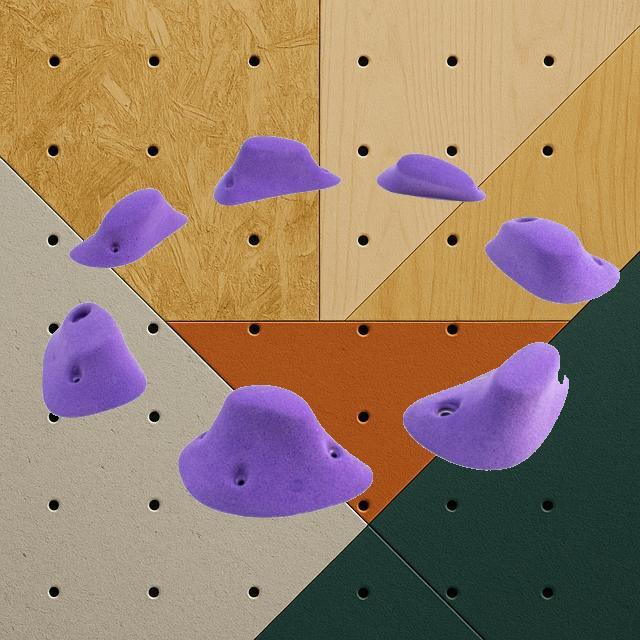Pinch: (177, 382, 373, 518), (402, 340, 570, 470), (41, 300, 148, 418), (484, 214, 620, 304), (68, 185, 188, 268), (212, 134, 342, 206), (376, 152, 486, 202)
